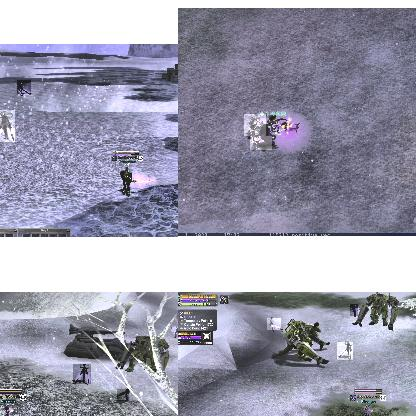caliana: (244, 114, 266, 136), (0, 110, 14, 142), (73, 364, 91, 384), (250, 136, 272, 150), (337, 342, 353, 360), (17, 80, 31, 94), (267, 318, 281, 330), (117, 389, 129, 401), (170, 326, 178, 338), (350, 304, 358, 316)
